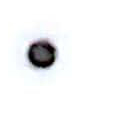cancer: (5, 23, 77, 85)
